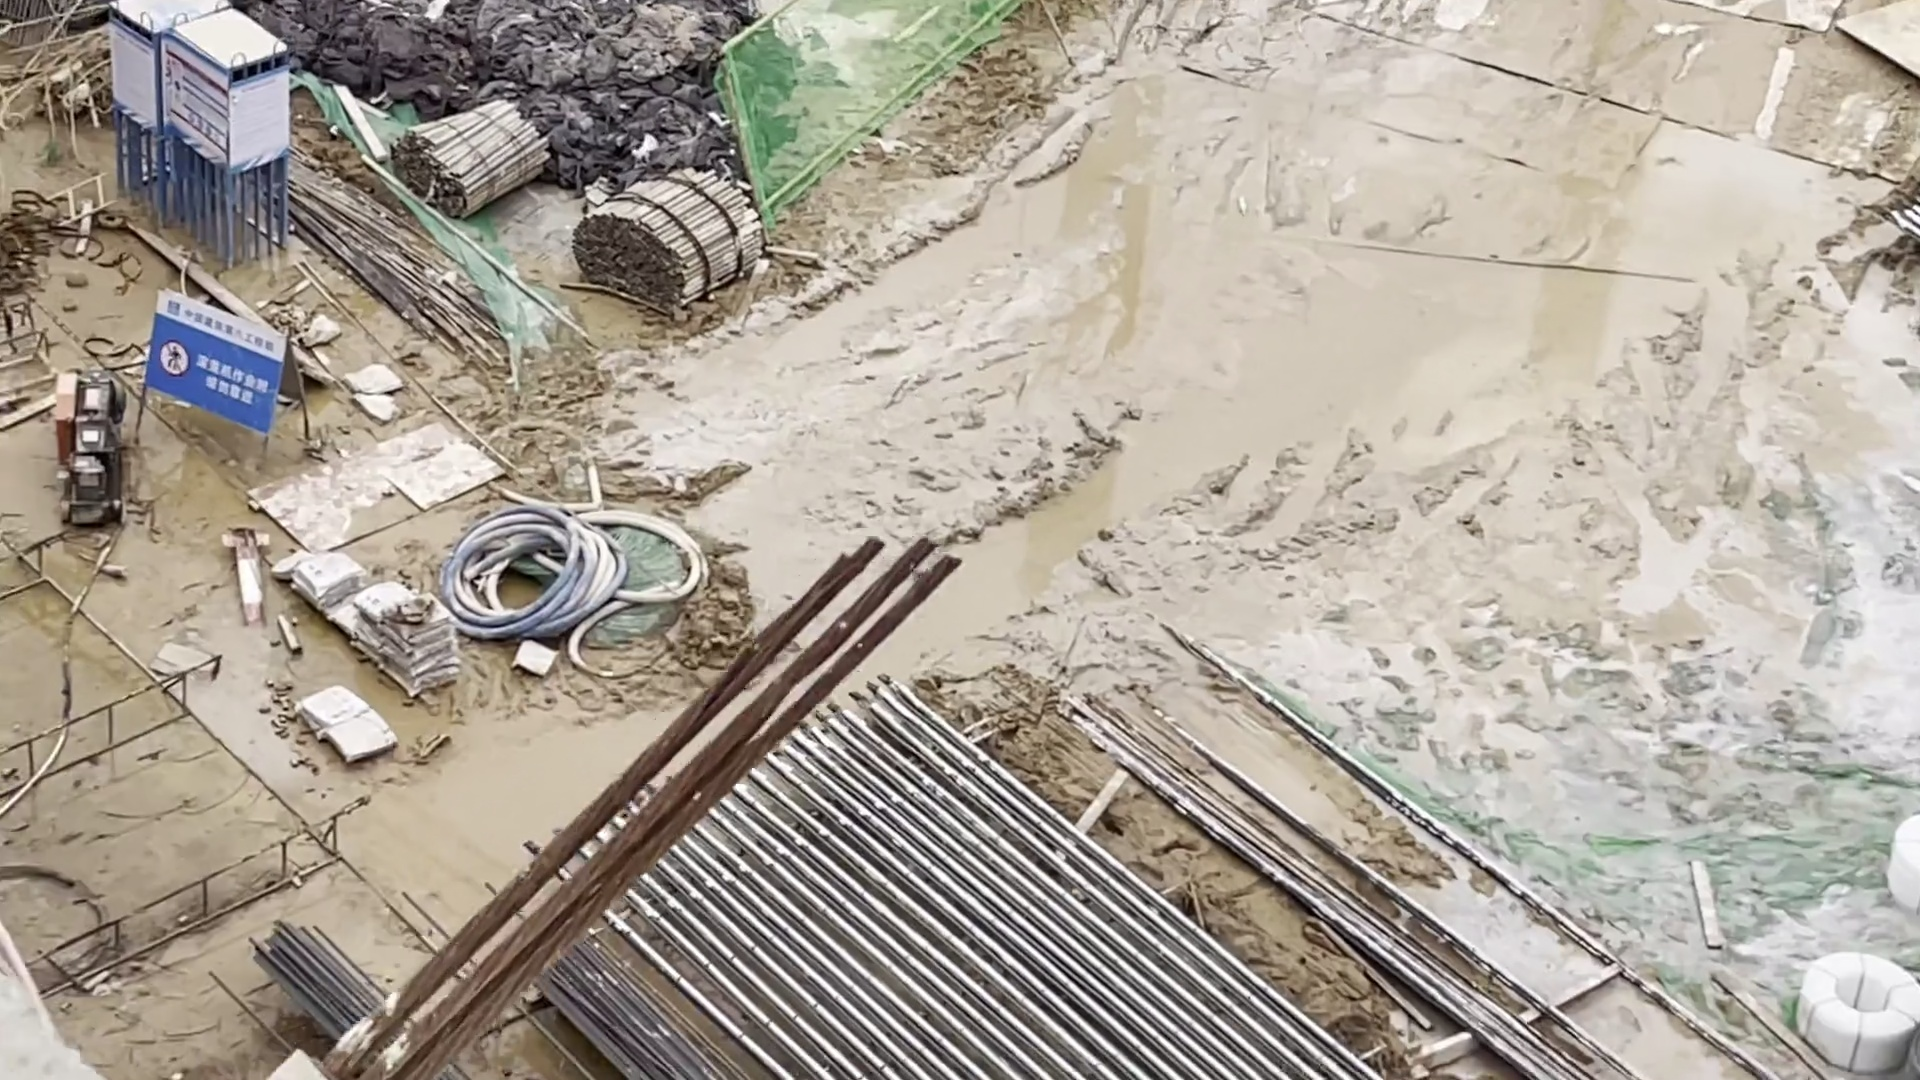rebar: (538, 939, 731, 1080), (222, 899, 375, 1029)
slogan: (146, 301, 281, 422)
wood: (574, 164, 764, 316), (389, 98, 549, 219)
